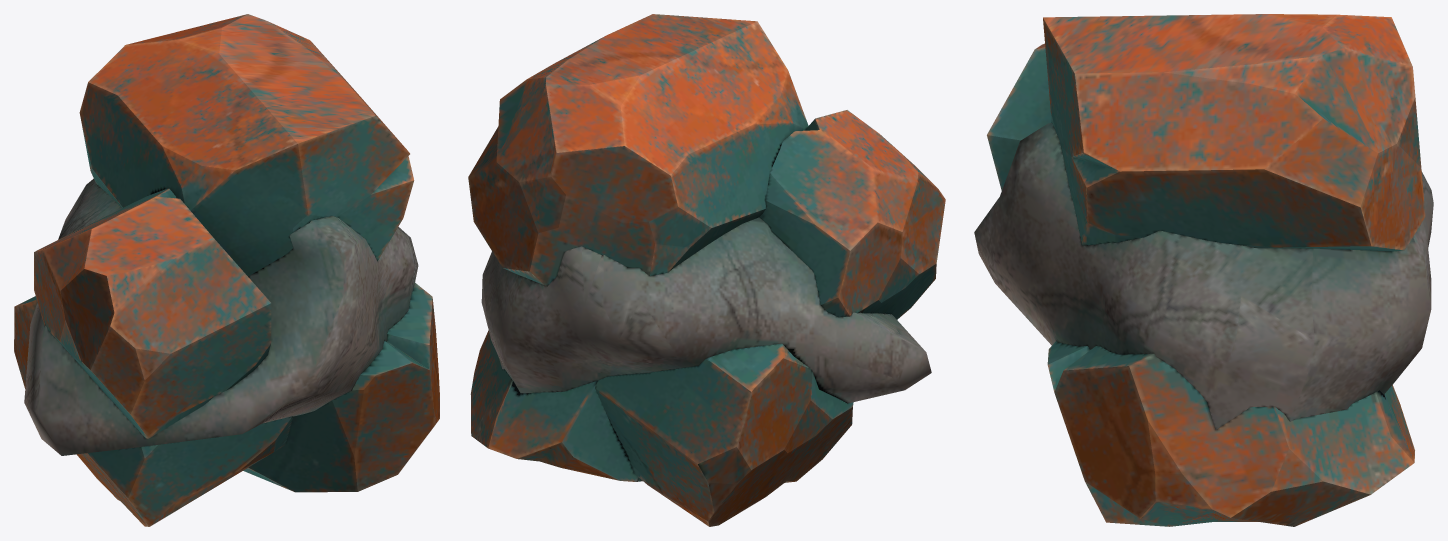
Rendered from CopperOreCluster.glb.
3 views of the same model, side by side, from view 1: azimuth 30°, elevation 25°; view 2: azimuth 150°, elevation 25°; view 3: azimuth 270°, elevation 25° (orthographic). The views are drawn at different scales.
Parts seen in each view (by area): view 1: CopperOreCluster; view 2: CopperOreCluster; view 3: CopperOreCluster.
Boxes of the visible parts, x1,y1,x2,y2 form: CopperOreCluster: (14,14,439,526); CopperOreCluster: (468,14,945,526); CopperOreCluster: (974,14,1433,526).
Size of the model in its own units: 0.6784 by 0.6576 by 0.5744.
1 material, 1 textured.
